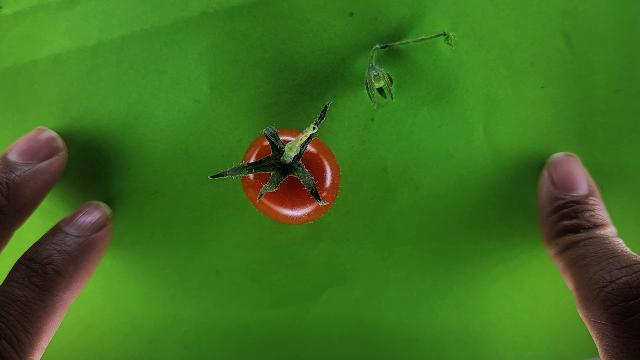Fruit Bud: (371, 71, 387, 88)
Fully Grown: (237, 126, 345, 227)
